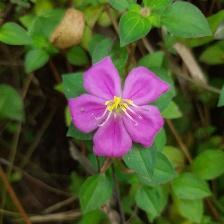malabar melastome: (65, 46, 175, 164)
